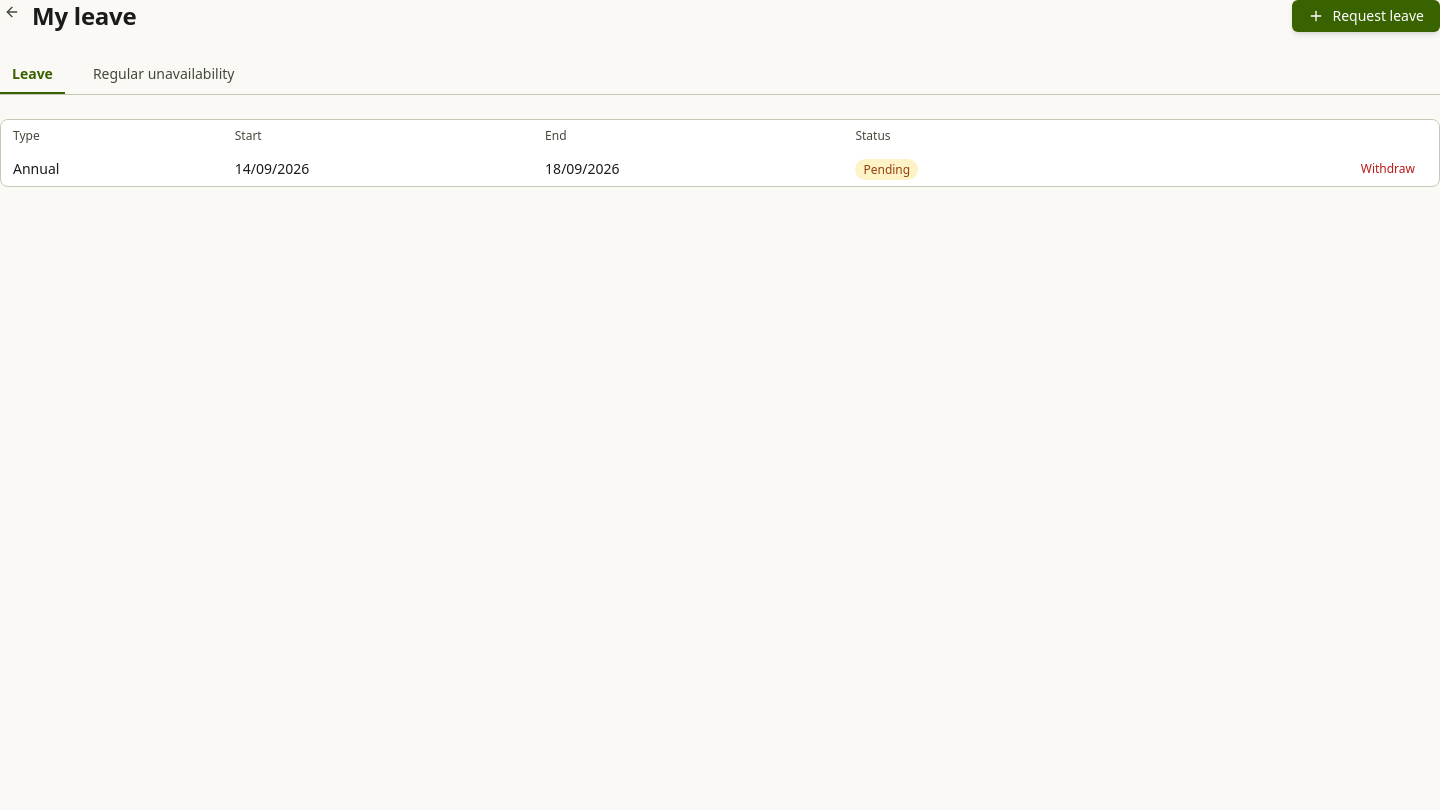
Test: PortalLeavePage › shows the withdraw-failure banner when cancelling fails
The image size is (1440, 810).
Click the button with aria-label "withdraw: " at (1388, 169), box [1349,157,1427,181]
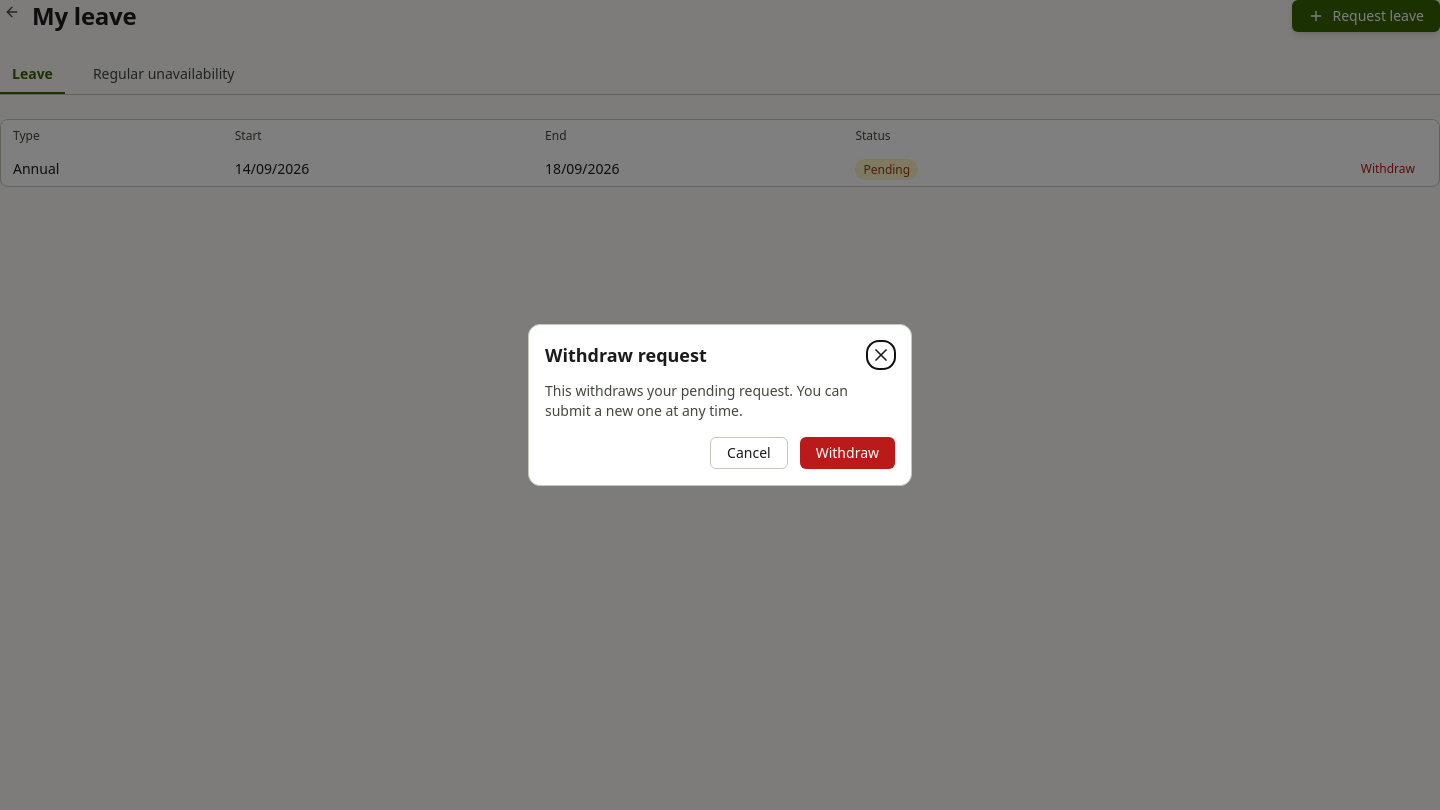
Click the button "Withdraw" at (847, 453), box [800,437,895,469]
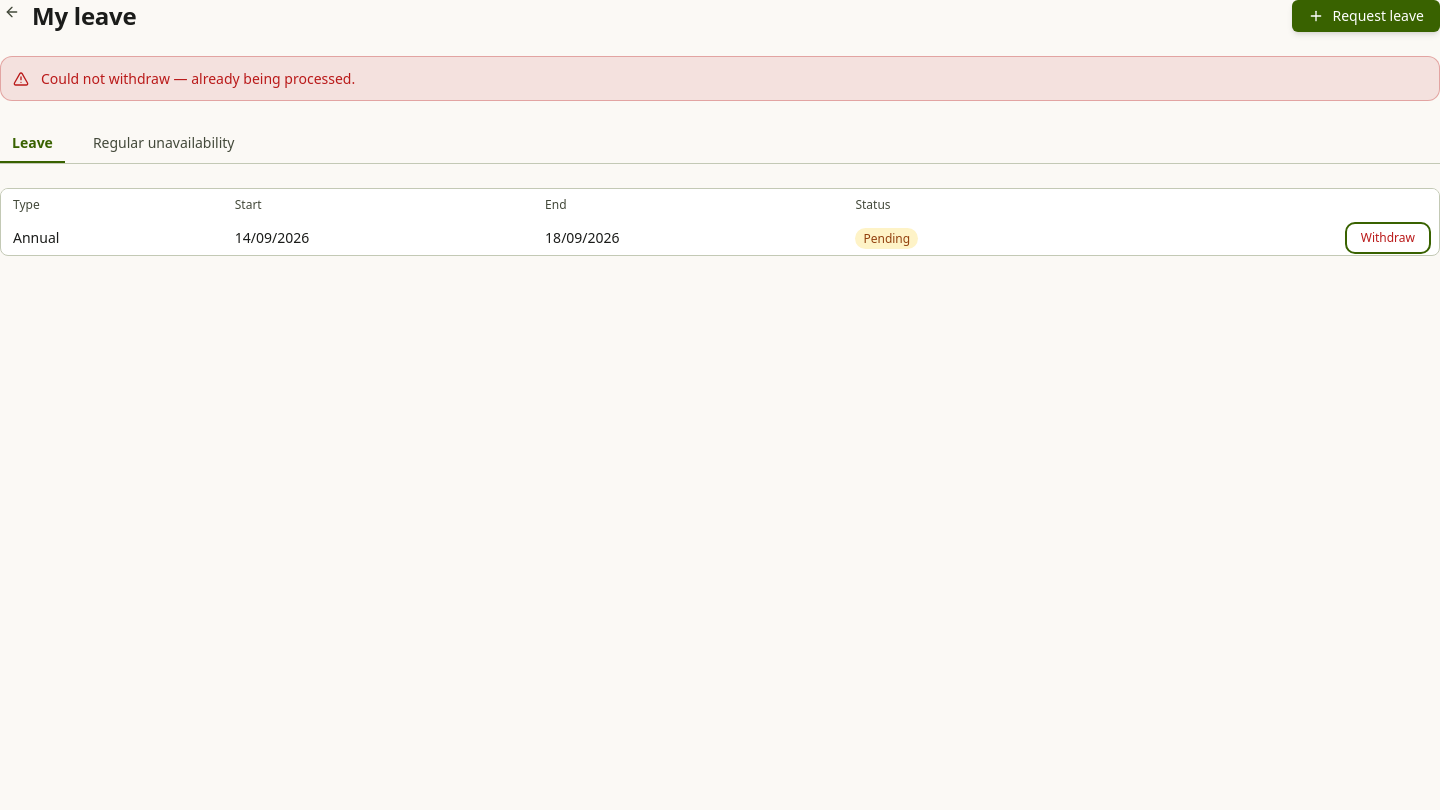
Expected: the message reads "Could not withdraw — already being processed.", [41,69,355,88]
Expected: the dialog is gone
